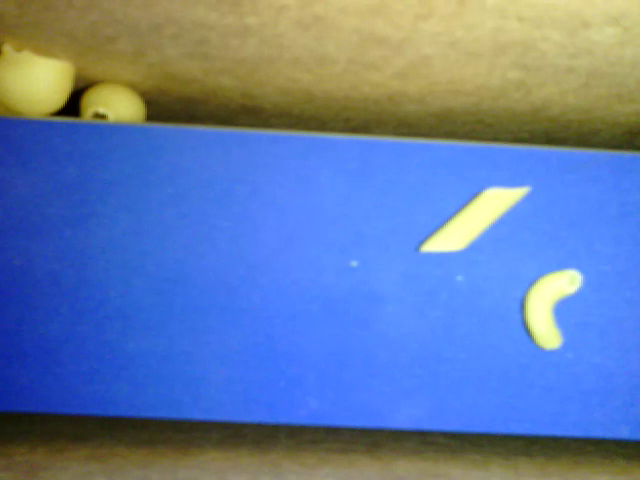elbow: (521, 269, 581, 350)
penne: (419, 185, 528, 253)
shell: (1, 41, 74, 118), (79, 81, 145, 121)
